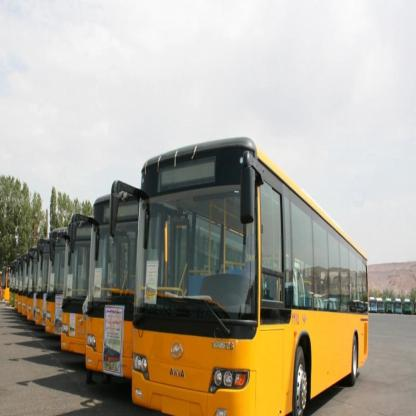Bus: (132, 141, 378, 408), (82, 188, 154, 374), (60, 218, 99, 352), (47, 233, 74, 337), (30, 232, 52, 334), (23, 250, 37, 318), (16, 258, 27, 310)
